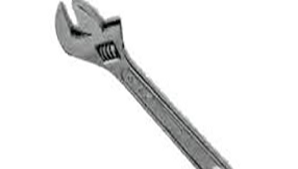Wrench: (46, 2, 245, 169)
